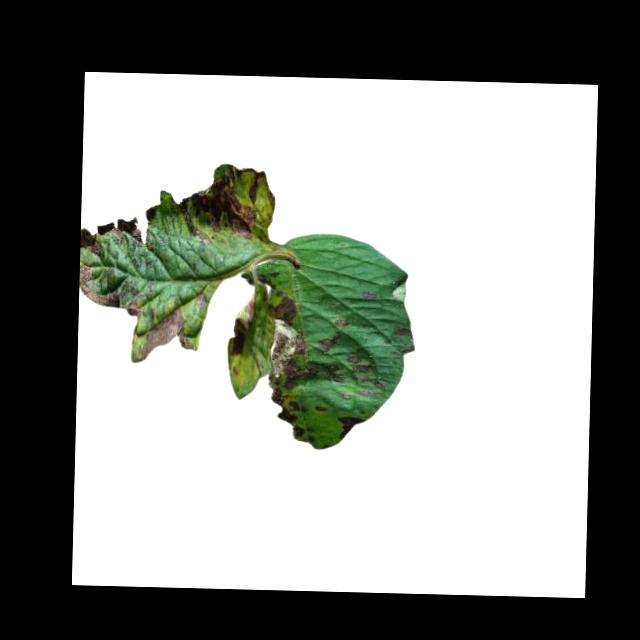Early_blight: (176, 162, 277, 246), (264, 294, 305, 391), (79, 263, 140, 319), (141, 302, 192, 361), (266, 391, 301, 437), (109, 216, 143, 247), (228, 316, 247, 360), (337, 416, 365, 439), (346, 352, 367, 375), (317, 337, 335, 353)
